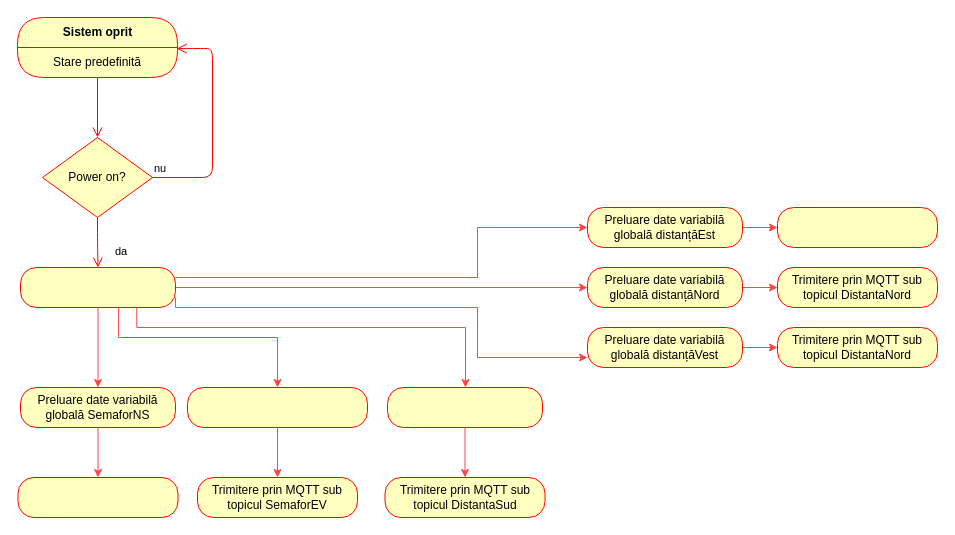
This 955x535 diagram has some shape labels left out. The centre of each missing label's shape, as x and y in pixels:
"Pornire trimitere prin MQTT" goes at (x=98, y=287).
"Preluare date variabilă globală distanțăSud" goes at (x=464, y=407).
"Preluare date variabilă globală SemaforEV" goes at (x=277, y=407).
"Trimitere prin MQTT sub topicul DistantaEst" goes at (x=857, y=227).
"Trimitere prin MQTT sub topicul SemaforNS" goes at (x=97, y=497).
